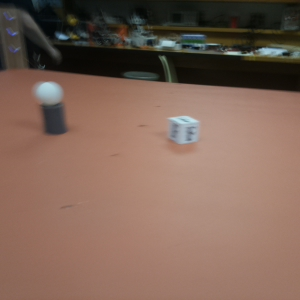blockF: (167, 116, 200, 146)
corner: (1, 7, 24, 69)
obstacle: (34, 81, 66, 136)
